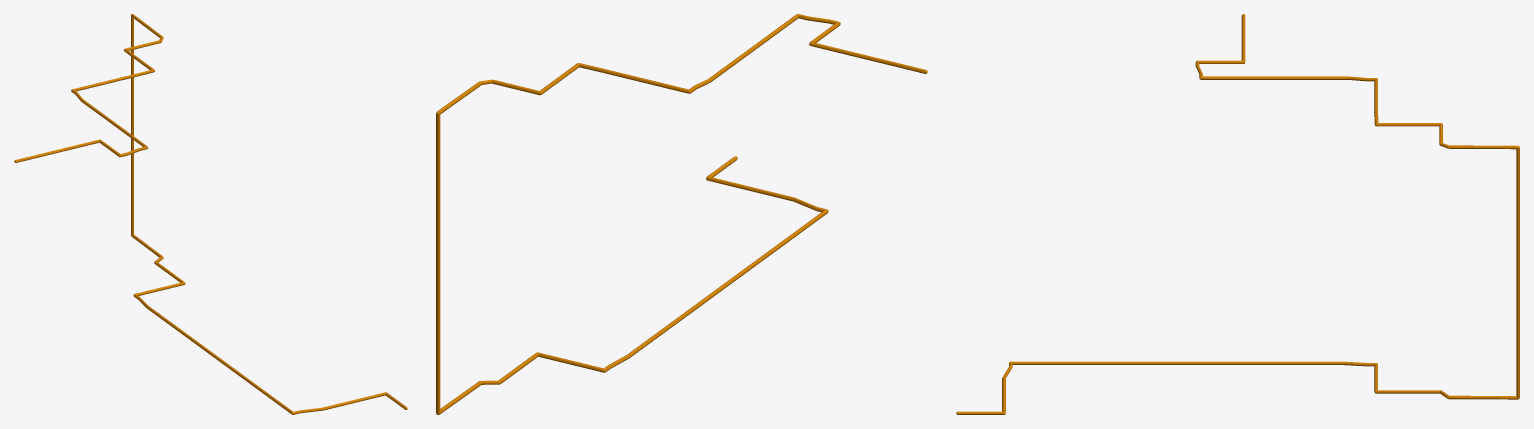
3 renders of one model, left to right at view 1: azimuth 30°, elevation 25°; view 2: azimuth 150°, elevation 25°; view 3: azimuth 270°, elevation 25°, orthographic. The views are drawn at different scales.
Bounding box in the file's own units: 1911 × 1520 × 3061.
